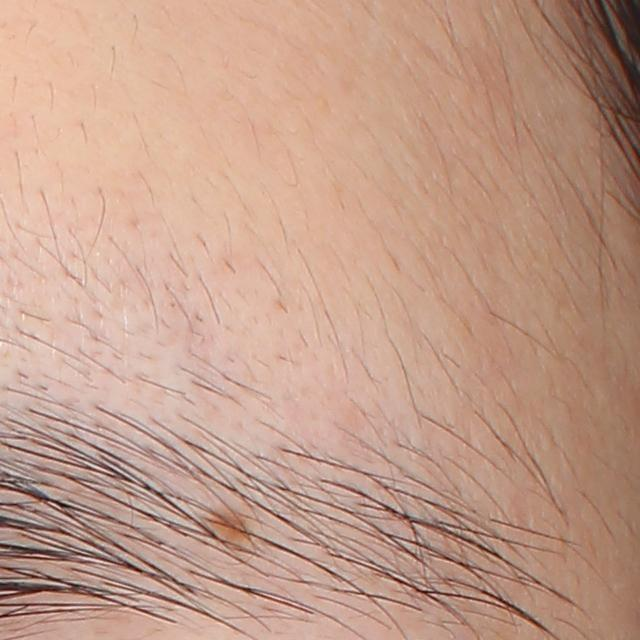nevus: (200, 497, 248, 543)
